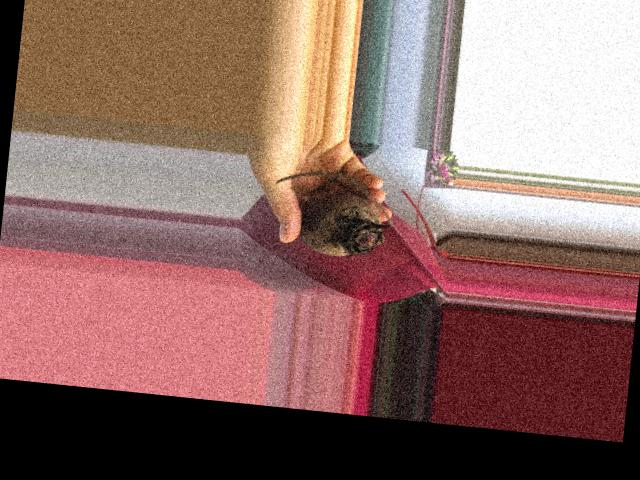beet: (269, 167, 399, 261)
